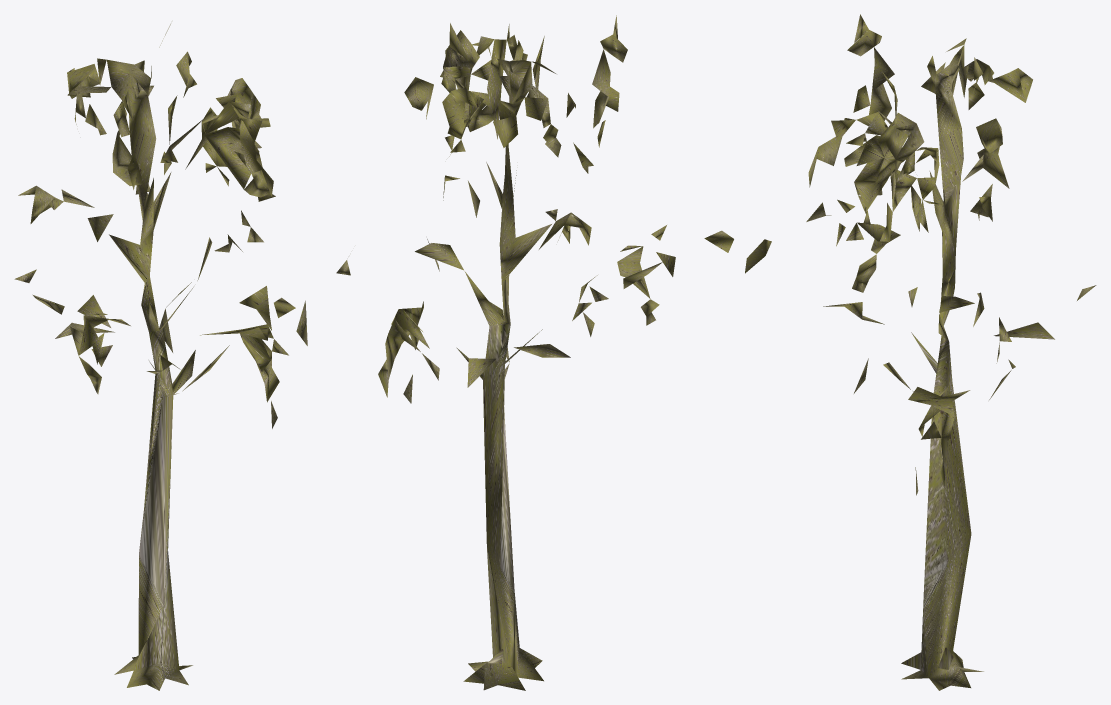
File: betula-utilis-l3.glb
3 renders of one model, left to right at view 1: azimuth 30°, elevation 25°; view 2: azimuth 150°, elevation 25°; view 3: azimuth 270°, elevation 25°, orthographic. The views are drawn at different scales.
Parts seen in each view (by area): view 1: world; view 2: world; view 3: world.
Part boxes in pixels (x1,y1,x2,y2): world: (14,24,307,690); world: (336,15,675,690); world: (704,14,1096,690).
Size of the model in its own units: 5.04 by 11.19 by 6.25.
1 material, 1 textured.
